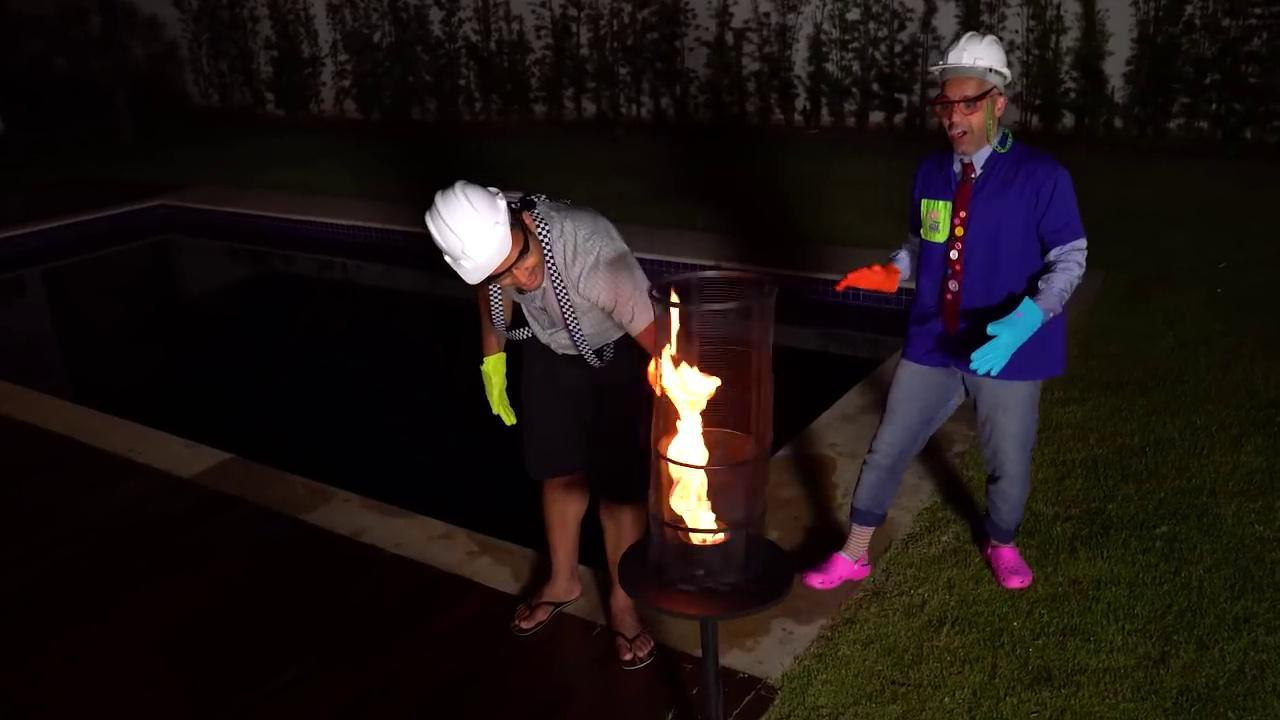Fire: (656, 304, 734, 539)
